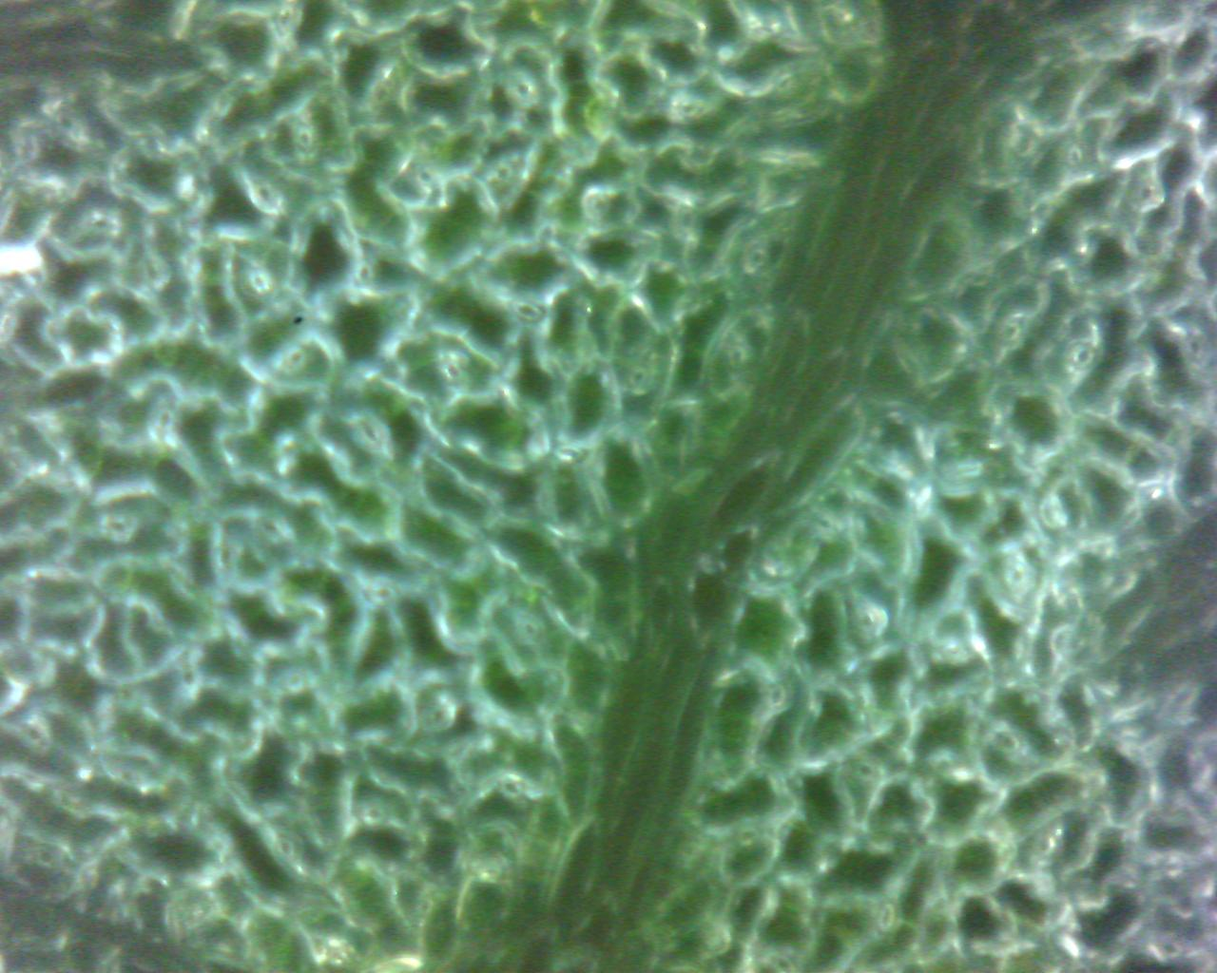stomata: (149, 401, 181, 441), (361, 579, 400, 609), (275, 4, 302, 45), (1053, 926, 1086, 959), (506, 297, 547, 323), (86, 206, 119, 238), (506, 73, 538, 105), (354, 801, 388, 830), (1003, 559, 1030, 595), (279, 667, 313, 695), (276, 348, 310, 376), (1182, 332, 1209, 367), (357, 414, 384, 448), (551, 441, 589, 465), (937, 639, 969, 667), (1135, 177, 1162, 210), (1043, 499, 1072, 529), (875, 899, 899, 935), (255, 181, 281, 214), (417, 165, 444, 196), (764, 681, 790, 713), (259, 515, 287, 544), (425, 701, 451, 732), (248, 268, 274, 299), (1069, 342, 1096, 371), (747, 240, 770, 274), (999, 319, 1025, 348), (294, 123, 317, 155), (104, 516, 133, 541), (1063, 142, 1088, 171), (675, 97, 703, 122), (356, 259, 379, 288), (273, 834, 298, 859), (519, 615, 543, 641), (443, 355, 465, 383), (585, 194, 606, 223), (995, 733, 1024, 753), (628, 368, 648, 390), (503, 776, 523, 798)
